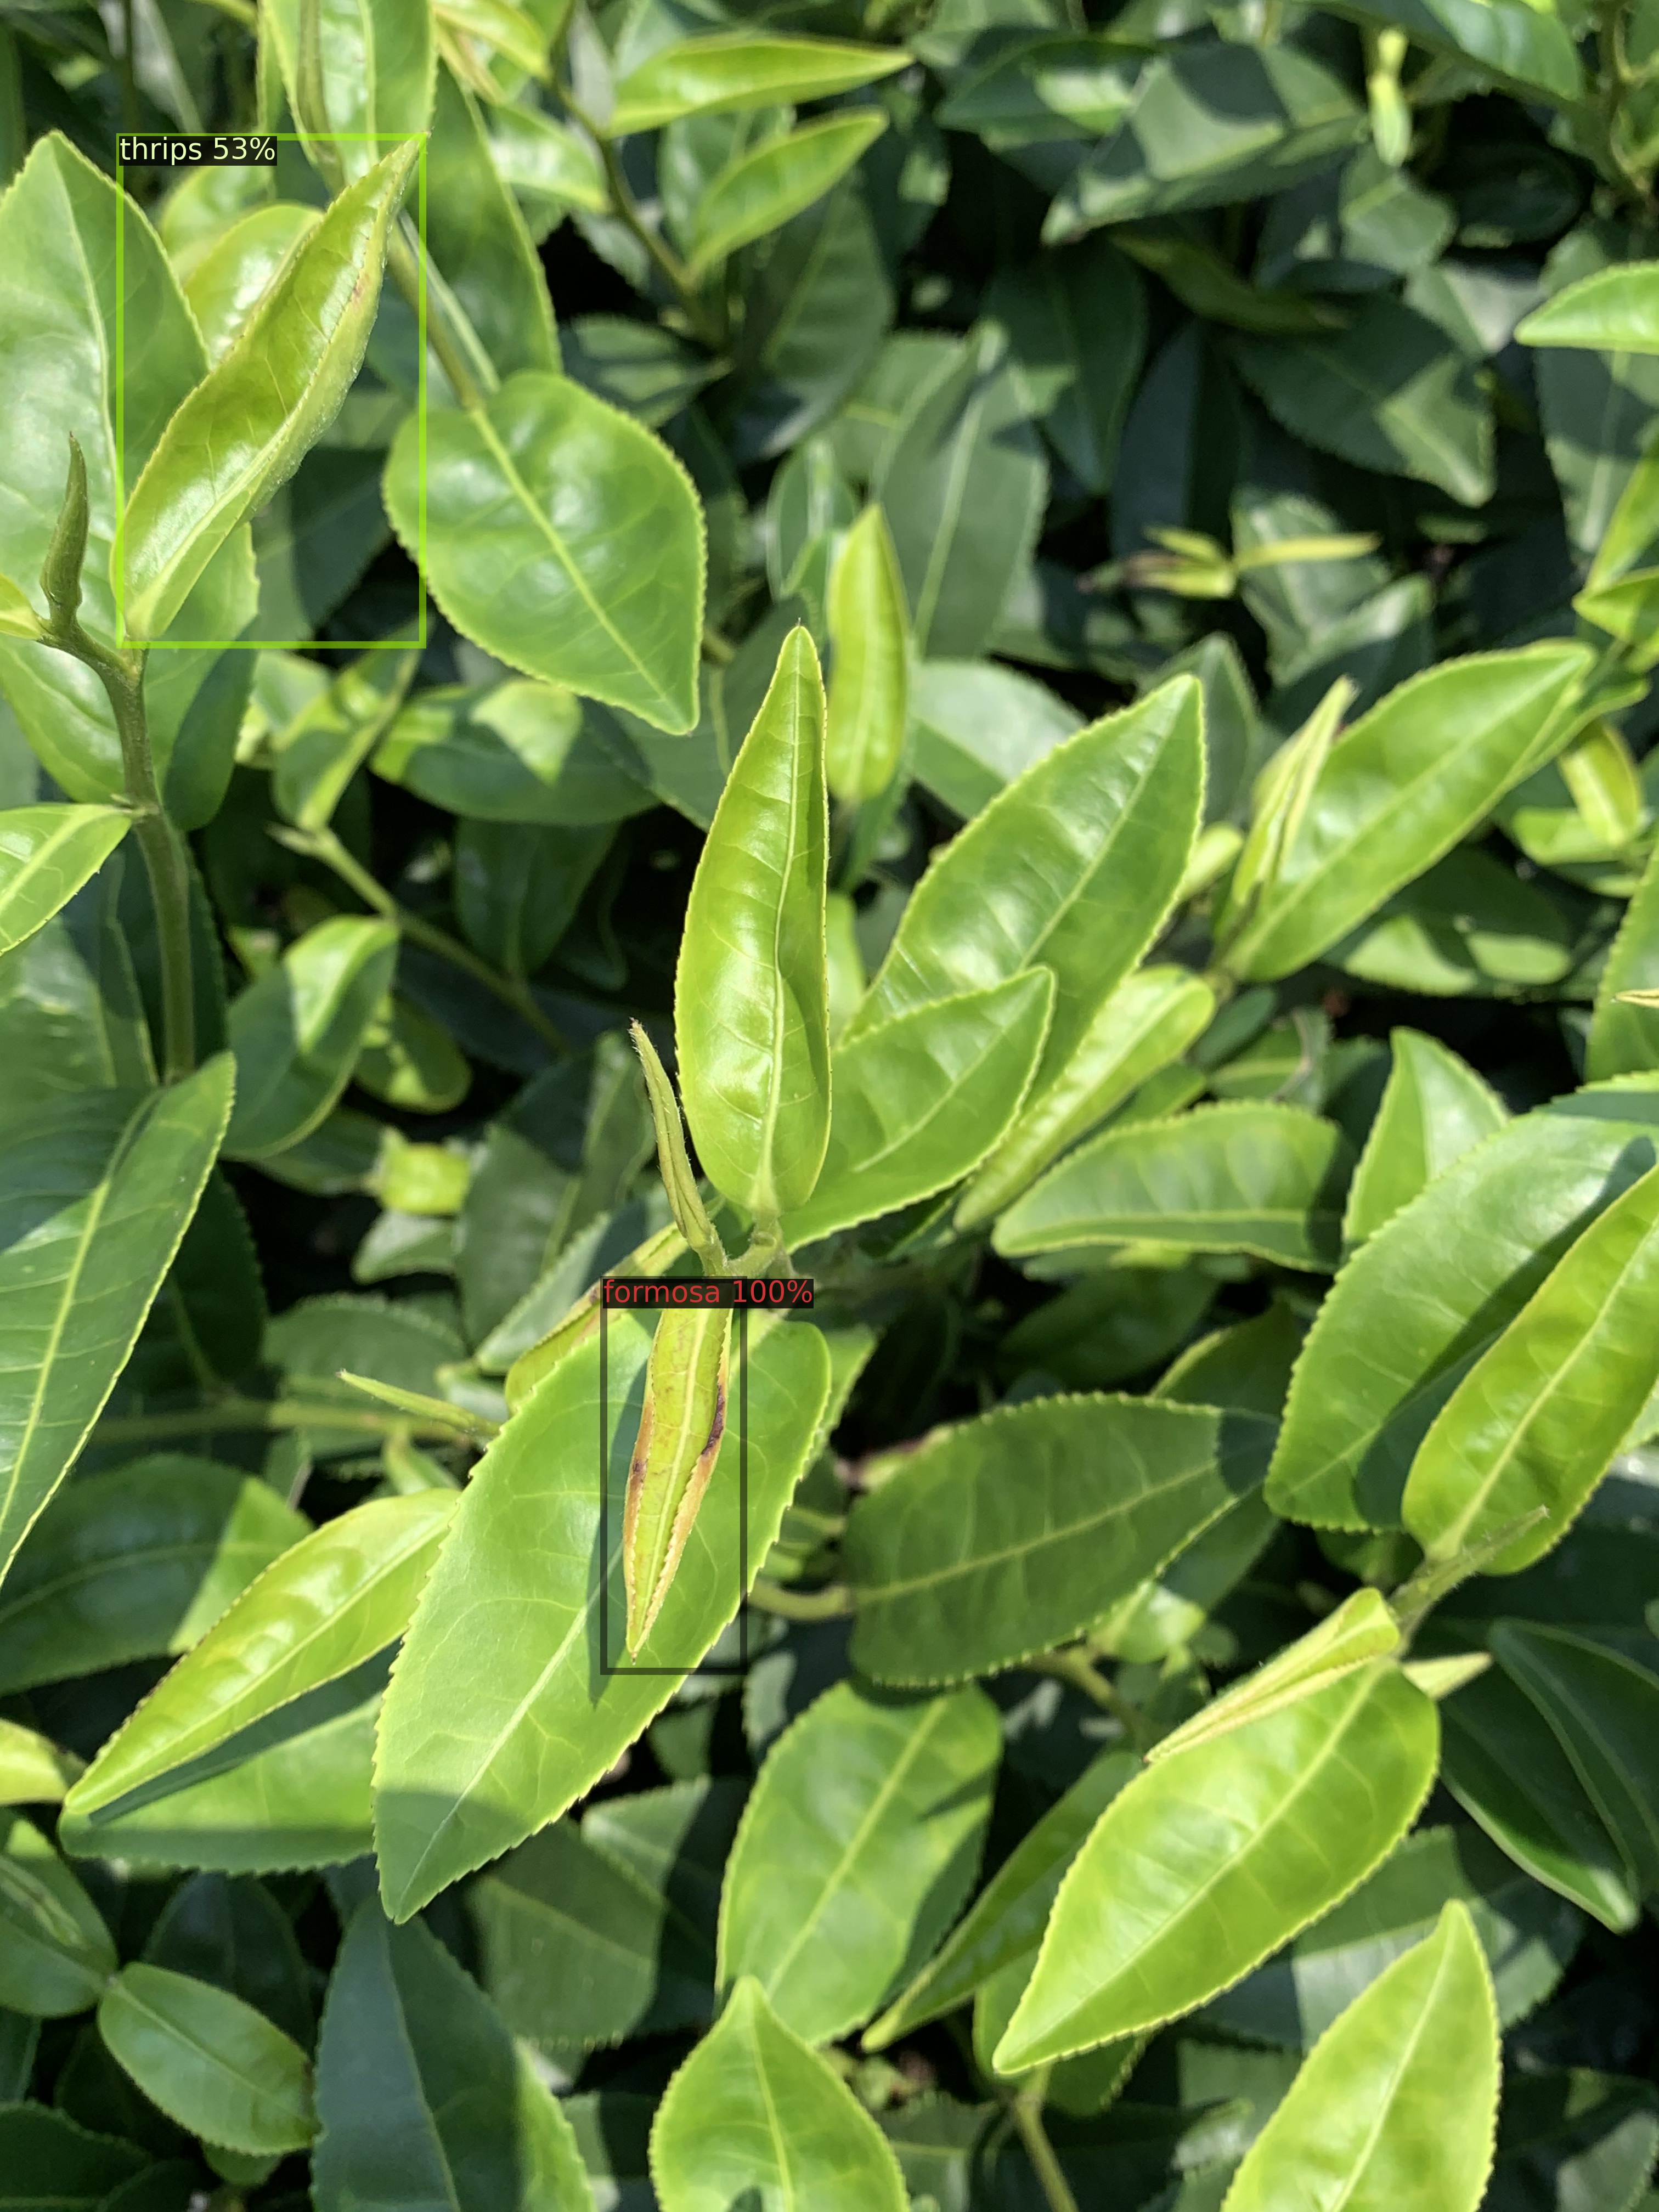formosa: (603, 1280, 744, 1670)
thrips: (120, 136, 422, 644)
